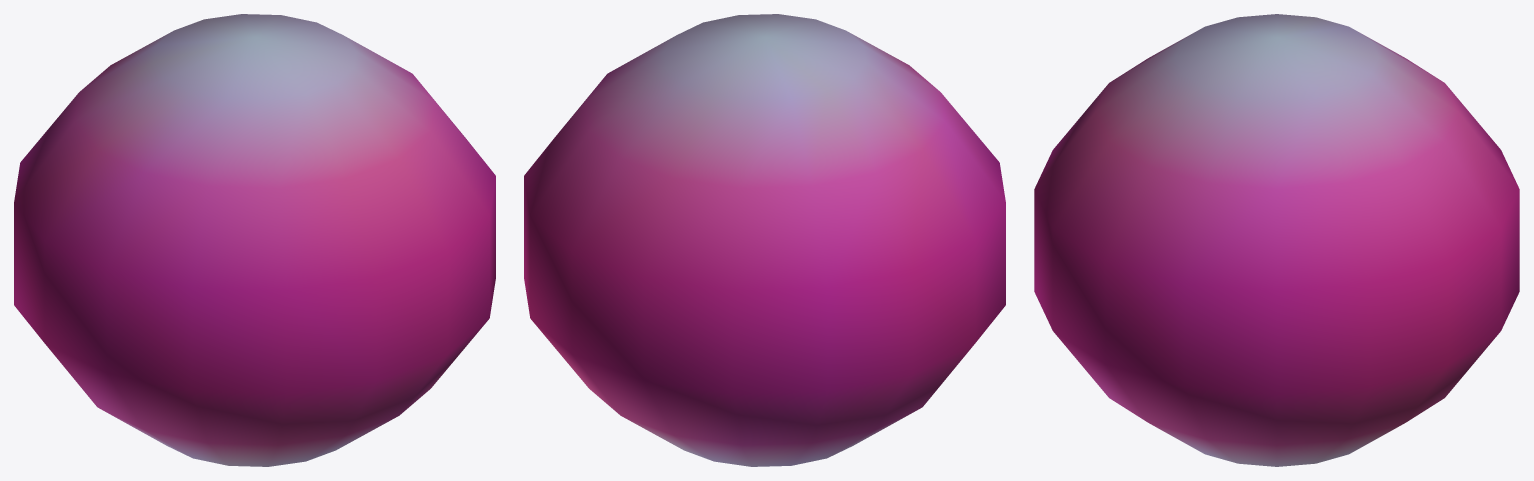
File: space-stars-pink-star_v1.glb
3 views of the same model, side by side, from view 1: azimuth 30°, elevation 25°; view 2: azimuth 150°, elevation 25°; view 3: azimuth 270°, elevation 25° (orthographic).
Parts seen in each view (by area): view 1: Pink Star; view 2: Pink Star; view 3: Pink Star.
Part boxes in pixels (x1,y1,x2,y2): Pink Star: (14,14,495,466); Pink Star: (524,14,1005,466); Pink Star: (1034,14,1519,466).
Size of the model in its own units: 0.5 by 0.4661 by 0.5.
